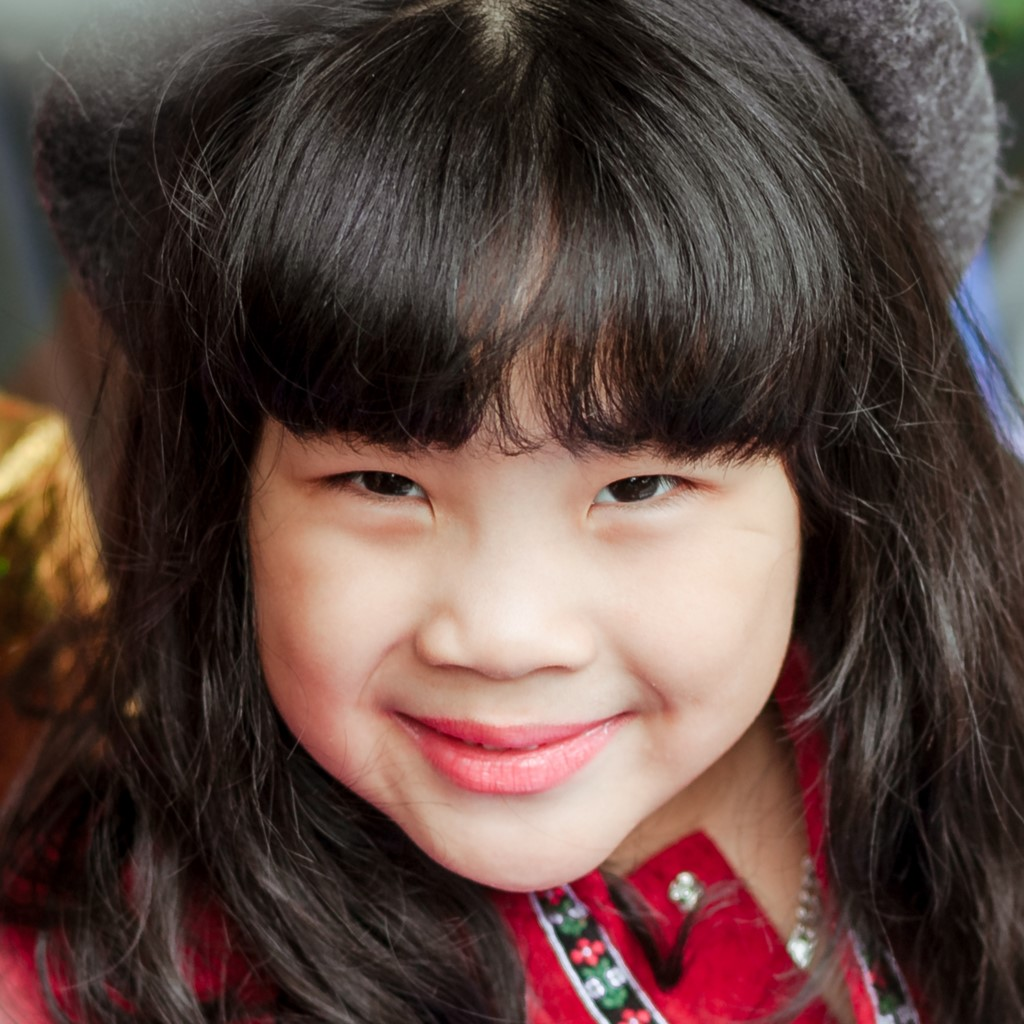sin_mascara: (199, 169, 797, 856)
